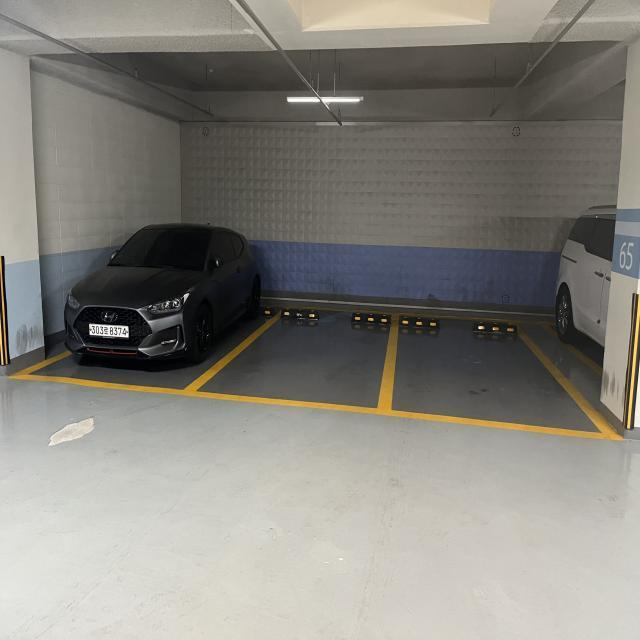Car: (48, 210, 220, 402)
Vacant: (382, 298, 607, 437), (212, 302, 394, 415)
